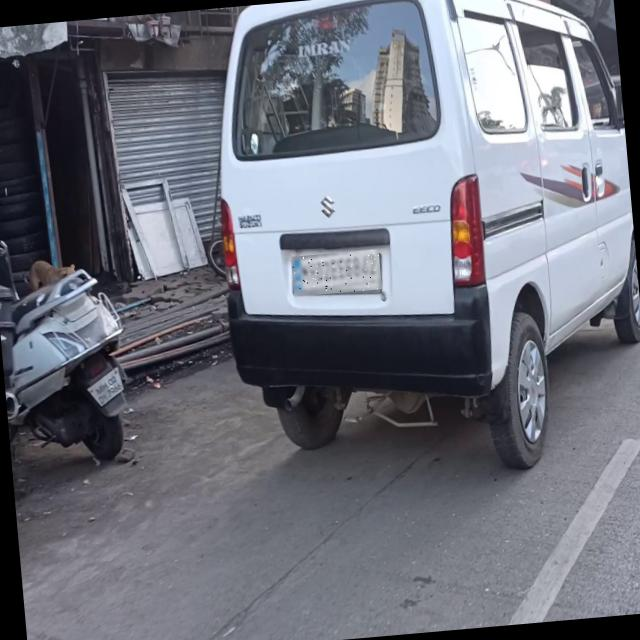Plate: (292, 250, 383, 298)
